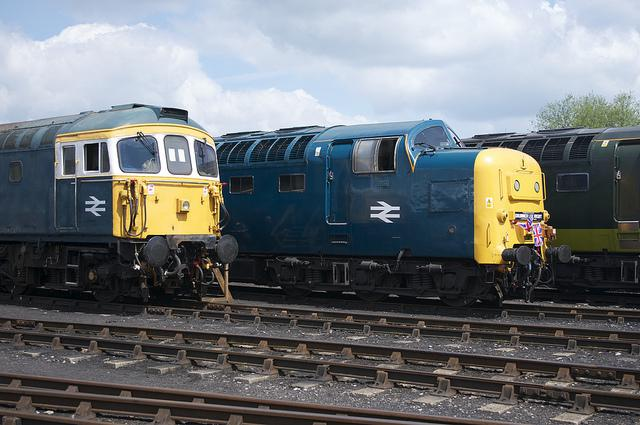Train: (211, 121, 571, 321), (1, 102, 243, 315), (454, 124, 640, 291)
